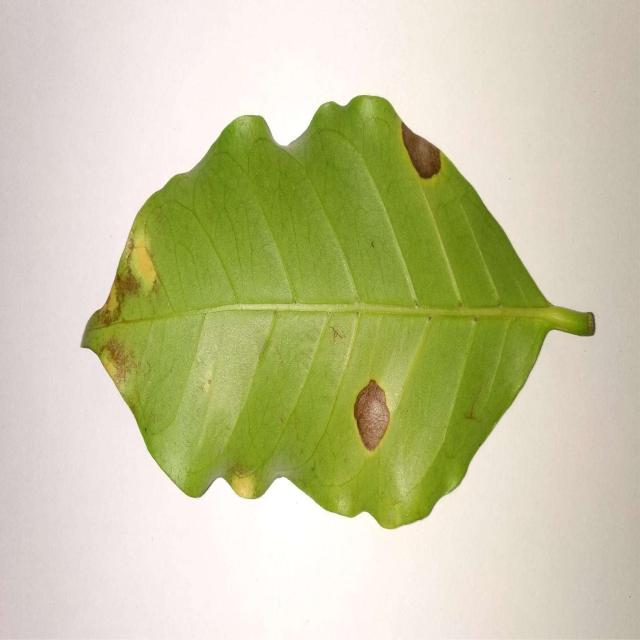Enfermedad-Mancha-de-hierro: (79, 95, 597, 532)
